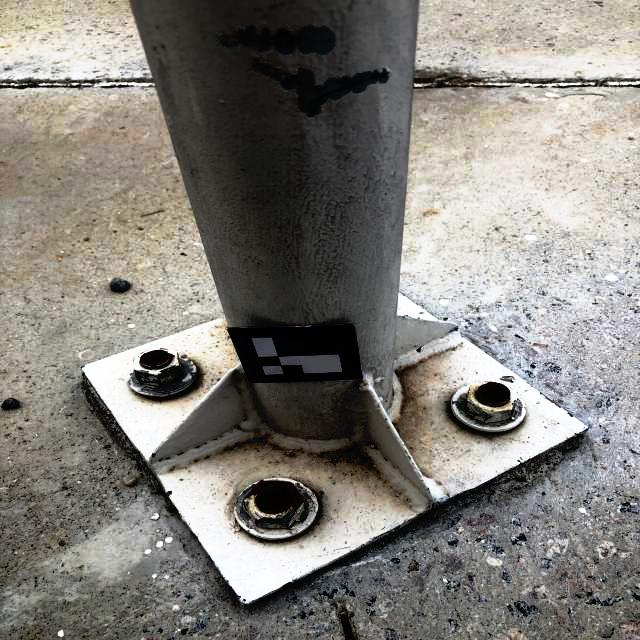Corrosion: (247, 480, 302, 513), (476, 382, 511, 404), (139, 349, 173, 366)
